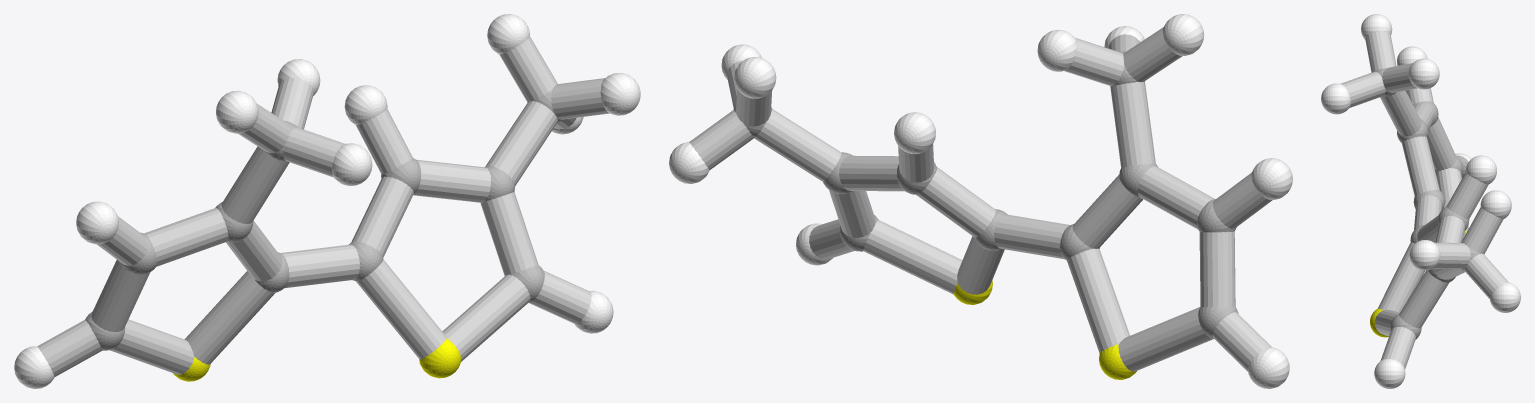
File: color.glb
3 views of the same model, side by side, from view 1: azimuth 30°, elevation 25°; view 2: azimuth 150°, elevation 25°; view 3: azimuth 270°, elevation 25° (orthographic). The views are drawn at different scales.
Visible parts, largest first — view 1: grp7965, grp3621, grp1, grp7241; view 2: grp7965, grp3621, grp1, grp7241; view 3: grp7965, grp3621, grp1, grp7241.
Part boxes in pixels (box(x1,y1,x2,y2)): grp7965: box(37, 37, 609, 376); grp3621: box(14, 14, 640, 388); grp1: box(85, 90, 561, 350); grp7241: box(173, 338, 461, 381); grp7965: box(689, 27, 1272, 371); grp3621: box(669, 14, 1292, 388); grp1: box(733, 51, 1238, 338); grp7241: box(953, 280, 1136, 379); grp7965: box(1340, 31, 1508, 368); grp3621: box(1321, 14, 1520, 388); grp1: box(1375, 68, 1480, 339); grp7241: box(1370, 231, 1466, 337).
Bounding box in the file's own units: 9.62 × 5.22 × 3.84.
